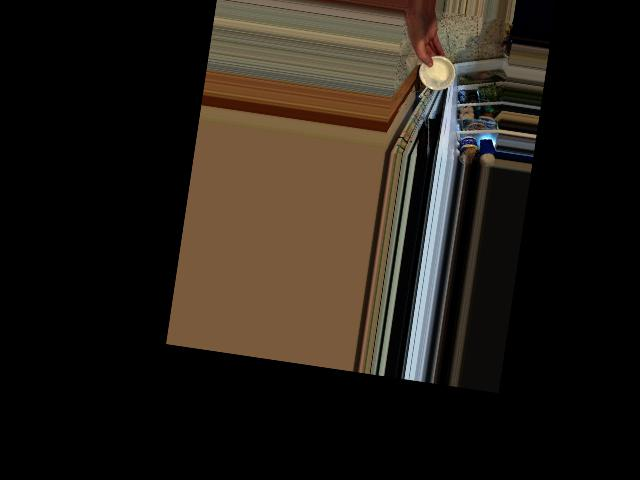cotage: (418, 55, 456, 92)
